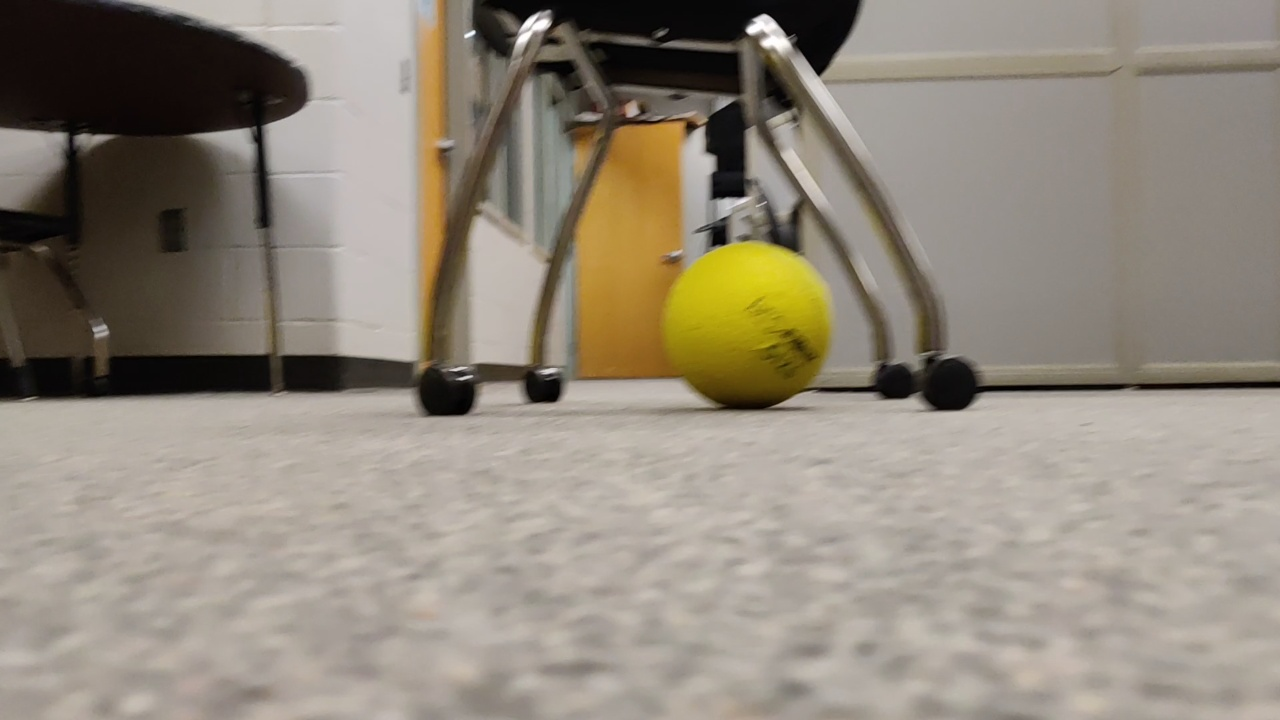Ball: (663, 237, 838, 420)
